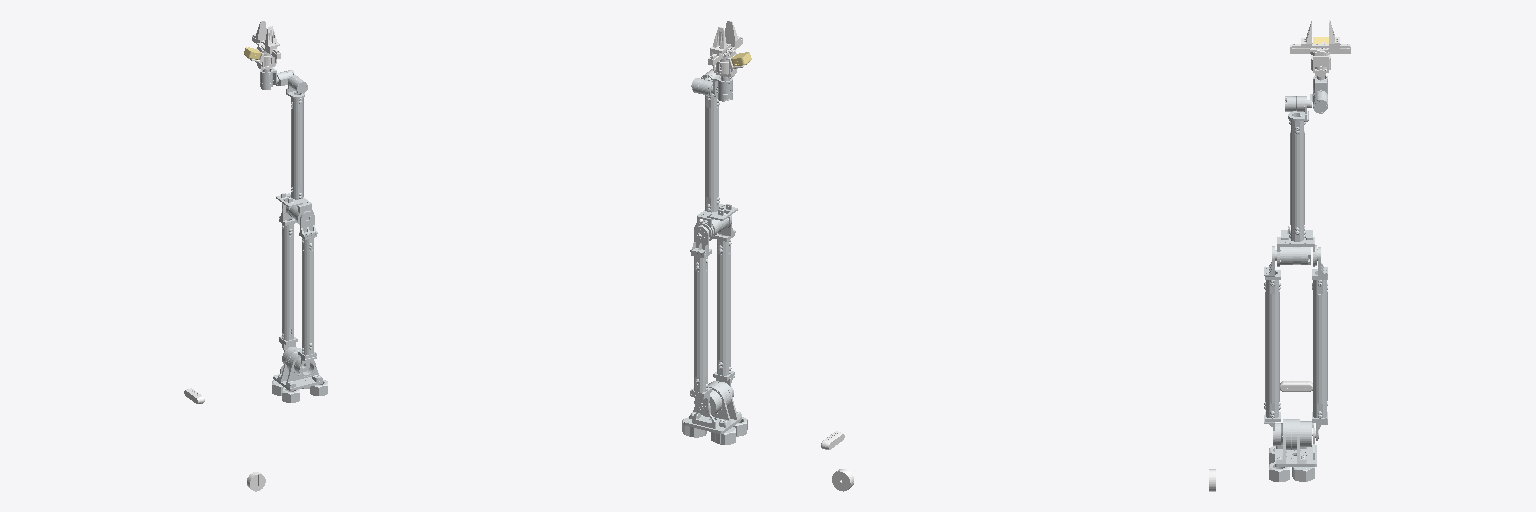
URDF robot description (四摆臂六履带):
<?xml version="1.0" encoding="utf-8"?>
<!-- This URDF was automatically created by SolidWorks to URDF Exporter! Originally created by Stephen Brawner (brawner@gmail.com) 
     Commit Version: 1.6.0-4-g7f85cfe  Build Version: 1.6.7995.38578
     For more information, please see http://wiki.ros.org/sw_urdf_exporter -->
<robot
  name="四摆臂六履带">
  <link
    name="base_link">
    <inertial>
      <origin
        xyz="-0.00525333436161124 -0.0654490125776293 -1.25924967565961"
        rpy="0 0 0" />
      <mass
        value="18.2147755600028" />
      <inertia
        ixx="0.035681135163709"
        ixy="-3.30703606727536E-06"
        ixz="1.73140581507931E-05"
        iyy="0.060568796439748"
        iyz="-6.66721495900564E-06"
        izz="0.0785360308707043" />
    </inertial>
    <visual>
      <origin
        xyz="0 0 0"
        rpy="0 0 0" />
      <geometry>
        <mesh
          filename="package://四摆臂六履带/meshes/base_link.STL" />
      </geometry>
      <material
        name="">
        <color
          rgba="0.298039215686275 0.298039215686275 0.298039215686275 1" />
      </material>
    </visual>
    <collision>
      <origin
        xyz="0 0 0"
        rpy="0 0 0" />
      <geometry>
        <mesh
          filename="package://四摆臂六履带/meshes/base_link.STL" />
      </geometry>
    </collision>
  </link>
  <link
    name="front_left_track_driver_link">
    <inertial>
      <origin
        xyz="0 0.0001766 0"
        rpy="0 0 0" />
      <mass
        value="0.048775" />
      <inertia
        ixx="1.1943E-05"
        ixy="-6.2489E-20"
        ixz="1.4137E-08"
        iyy="2.1014E-05"
        iyz="1.0289E-21"
        izz="1.2246E-05" />
    </inertial>
    <visual>
      <origin
        xyz="0 0 0"
        rpy="0 0 0" />
      <geometry>
        <mesh
          filename="package://四摆臂六履带/meshes/front_left_track_driver_link.STL" />
      </geometry>
      <material
        name="">
        <color
          rgba="1 1 1 1" />
      </material>
    </visual>
    <collision>
      <origin
        xyz="0 0 0"
        rpy="0 0 0" />
      <geometry>
        <mesh
          filename="package://四摆臂六履带/meshes/front_left_track_driver_link.STL" />
      </geometry>
    </collision>
  </link>
  <joint
    name="front_left_track_driver_joint"
    type="continuous">
    <origin
      xyz="-0.15403 -0.28434 -1.3328"
      rpy="0 0 0" />
    <parent
      link="base_link" />
    <child
      link="front_left_track_driver_link" />
    <axis
      xyz="0 1 0" />
  </joint>
  <link
    name="rear_left_track_driver_link">
    <inertial>
      <origin
        xyz="0 0.0001765998131813 -1.73472347597681E-18"
        rpy="0 0 0" />
      <mass
        value="0.0487751853603894" />
      <inertia
        ixx="1.19453151301021E-05"
        ixy="-6.37807671524902E-20"
        ixz="2.9354773388473E-08"
        iyy="2.10139464635948E-05"
        iyz="-1.06445813651756E-22"
        izz="1.22437584607124E-05" />
    </inertial>
    <visual>
      <origin
        xyz="0 0 0"
        rpy="0 0 0" />
      <geometry>
        <mesh
          filename="package://四摆臂六履带/meshes/rear_left_track_driver_link.STL" />
      </geometry>
      <material
        name="">
        <color
          rgba="1 1 1 1" />
      </material>
    </visual>
    <collision>
      <origin
        xyz="0 0 0"
        rpy="0 0 0" />
      <geometry>
        <mesh
          filename="package://四摆臂六履带/meshes/rear_left_track_driver_link.STL" />
      </geometry>
    </collision>
  </link>
  <joint
    name="rear_left_track_driver_joint"
    type="continuous">
    <origin
      xyz="0.15797 -0.28434 -1.3328"
      rpy="0 0 0" />
    <parent
      link="base_link" />
    <child
      link="rear_left_track_driver_link" />
    <axis
      xyz="0 1 0" />
  </joint>
  <link
    name="front_right_track_driver_link">
    <inertial>
      <origin
        xyz="0 -0.000176599813181272 1.73472347597681E-18"
        rpy="0 0 0" />
      <mass
        value="0.0487751853603893" />
      <inertia
        ixx="1.19431136820125E-05"
        ixy="6.25657776304725E-20"
        ixz="1.41367905477636E-08"
        iyy="2.10139464635948E-05"
        iyz="6.67222567019823E-22"
        izz="1.22459599088019E-05" />
    </inertial>
    <visual>
      <origin
        xyz="0 0 0"
        rpy="0 0 0" />
      <geometry>
        <mesh
          filename="package://四摆臂六履带/meshes/front_right_track_driver_link.STL" />
      </geometry>
      <material
        name="">
        <color
          rgba="1 1 1 1" />
      </material>
    </visual>
    <collision>
      <origin
        xyz="0 0 0"
        rpy="0 0 0" />
      <geometry>
        <mesh
          filename="package://四摆臂六履带/meshes/front_right_track_driver_link.STL" />
      </geometry>
    </collision>
  </link>
  <joint
    name="front_right_track_driver_joint"
    type="continuous">
    <origin
      xyz="-0.15403 0.15366 -1.3328"
      rpy="0 0 0" />
    <parent
      link="base_link" />
    <child
      link="front_right_track_driver_link" />
    <axis
      xyz="0 1 0" />
  </joint>
  <link
    name="rear_right_track_driver_link">
    <inertial>
      <origin
        xyz="-5.55111512312578E-17 -0.0001765998131813 0"
        rpy="0 0 0" />
      <mass
        value="0.0487751853603893" />
      <inertia
        ixx="1.1945315130102E-05"
        ixy="6.30303659563342E-20"
        ixz="2.93547733881655E-08"
        iyy="2.10139464635948E-05"
        iyz="1.13713686077786E-22"
        izz="1.22437584607124E-05" />
    </inertial>
    <visual>
      <origin
        xyz="0 0 0"
        rpy="0 0 0" />
      <geometry>
        <mesh
          filename="package://四摆臂六履带/meshes/rear_right_track_driver_link.STL" />
      </geometry>
      <material
        name="">
        <color
          rgba="1 1 1 1" />
      </material>
    </visual>
    <collision>
      <origin
        xyz="0 0 0"
        rpy="0 0 0" />
      <geometry>
        <mesh
          filename="package://四摆臂六履带/meshes/rear_right_track_driver_link.STL" />
      </geometry>
    </collision>
  </link>
  <joint
    name="rear_right_track_driver_joint"
    type="continuous">
    <origin
      xyz="0.15797 0.15366 -1.3328"
      rpy="0 0 0" />
    <parent
      link="base_link" />
    <child
      link="rear_right_track_driver_link" />
    <axis
      xyz="0 1 0" />
  </joint>
  <link
    name="front_left_flipper_link">
    <inertial>
      <origin
        xyz="8.51004323329518E-08 0.00550753511779439 0.166867745732428"
        rpy="0 0 0" />
      <mass
        value="1.58786786548102" />
      <inertia
        ixx="0.0101203073694155"
        ixy="-2.47348246222203E-12"
        ixz="6.46656692217059E-09"
        iyy="0.0114564870751773"
        iyz="-8.66733028935139E-08"
        izz="0.00151495709722874" />
    </inertial>
    <visual>
      <origin
        xyz="0 0 0"
        rpy="0 0 0" />
      <geometry>
        <mesh
          filename="package://四摆臂六履带/meshes/front_left_flipper_link.STL" />
      </geometry>
      <material
        name="">
        <color
          rgba="0.752941176470588 0.752941176470588 0.752941176470588 1" />
      </material>
    </visual>
    <collision>
      <origin
        xyz="0 0 0"
        rpy="0 0 0" />
      <geometry>
        <mesh
          filename="package://四摆臂六履带/meshes/front_left_flipper_link.STL" />
      </geometry>
    </collision>
  </link>
  <joint
    name="front_left_flipper_joint"
    type="revolute">
    <origin
      xyz="-0.27563 -0.30634 -1.2777"
      rpy="0 0 0" />
    <parent
      link="base_link" />
    <child
      link="front_left_flipper_link" />
    <axis
      xyz="0 -1 0" />
    <limit
      lower="-2.356"
      upper="2.356"
      effort="50"
      velocity="1.57" />
  </joint>
  <link
    name="rear_left_flipper_link">
    <inertial>
      <origin
        xyz="8.51004334778693E-08 0.00550753511779267 0.166867745732428"
        rpy="0 0 0" />
      <mass
        value="1.58786786548102" />
      <inertia
        ixx="0.0101203073694154"
        ixy="-2.47348286003286E-12"
        ixz="6.46656686111177E-09"
        iyy="0.0114564870751773"
        iyz="-8.66733026505326E-08"
        izz="0.00151495709722865" />
    </inertial>
    <visual>
      <origin
        xyz="0 0 0"
        rpy="0 0 0" />
      <geometry>
        <mesh
          filename="package://四摆臂六履带/meshes/rear_left_flipper_link.STL" />
      </geometry>
      <material
        name="">
        <color
          rgba="0.752941176470588 0.752941176470588 0.752941176470588 1" />
      </material>
    </visual>
    <collision>
      <origin
        xyz="0 0 0"
        rpy="0 0 0" />
      <geometry>
        <mesh
          filename="package://四摆臂六履带/meshes/rear_left_flipper_link.STL" />
      </geometry>
    </collision>
  </link>
  <joint
    name="rear_left_flipper_joint"
    type="revolute">
    <origin
      xyz="0.27957 -0.30634 -1.2777"
      rpy="0 0 0" />
    <parent
      link="base_link" />
    <child
      link="rear_left_flipper_link" />
    <axis
      xyz="0 -1 0" />
    <limit
      lower="-2.356"
      upper="2.356"
      effort="50"
      velocity="1.57" />
  </joint>
  <link
    name="front_right_flipper_link">
    <inertial>
      <origin
        xyz="-8.5100776273106E-08 -0.00550753511778798 0.166867745732428"
        rpy="0 0 0" />
      <mass
        value="1.58786786548102" />
      <inertia
        ixx="0.0101203073694157"
        ixy="-2.47348335348264E-12"
        ixz="-6.46654918700326E-09"
        iyy="0.0114564870751773"
        iyz="8.66733026516659E-08"
        izz="0.0015149570972289" />
    </inertial>
    <visual>
      <origin
        xyz="0 0 0"
        rpy="0 0 0" />
      <geometry>
        <mesh
          filename="package://四摆臂六履带/meshes/front_right_flipper_link.STL" />
      </geometry>
      <material
        name="">
        <color
          rgba="0.752941176470588 0.752941176470588 0.752941176470588 1" />
      </material>
    </visual>
    <collision>
      <origin
        xyz="0 0 0"
        rpy="0 0 0" />
      <geometry>
        <mesh
          filename="package://四摆臂六履带/meshes/front_right_flipper_link.STL" />
      </geometry>
    </collision>
  </link>
  <joint
    name="front_right_flipper_joint"
    type="revolute">
    <origin
      xyz="-0.27563 0.17566 -1.2777"
      rpy="0 0 0" />
    <parent
      link="base_link" />
    <child
      link="front_right_flipper_link" />
    <axis
      xyz="0 1 0" />
    <limit
      lower="-2.356"
      upper="2.356"
      effort="50"
      velocity="1.57" />
  </joint>
  <link
    name="rear_right_flipper_link">
    <inertial>
      <origin
        xyz="-8.51007770918955E-08 -0.0055075351177879 0.166867745732428"
        rpy="0 0 0" />
      <mass
        value="1.58786786548102" />
      <inertia
        ixx="0.0101203073694157"
        ixy="-2.47348332008637E-12"
        ixz="-6.46654912691067E-09"
        iyy="0.0114564870751773"
        iyz="8.66733026512717E-08"
        izz="0.0015149570972289" />
    </inertial>
    <visual>
      <origin
        xyz="0 0 0"
        rpy="0 0 0" />
      <geometry>
        <mesh
          filename="package://四摆臂六履带/meshes/rear_right_flipper_link.STL" />
      </geometry>
      <material
        name="">
        <color
          rgba="0.752941176470588 0.752941176470588 0.752941176470588 1" />
      </material>
    </visual>
    <collision>
      <origin
        xyz="0 0 0"
        rpy="0 0 0" />
      <geometry>
        <mesh
          filename="package://四摆臂六履带/meshes/rear_right_flipper_link.STL" />
      </geometry>
    </collision>
  </link>
  <joint
    name="rear_right_flipper_joint"
    type="revolute">
    <origin
      xyz="0.27957 0.17566 -1.2777"
      rpy="0 0 0" />
    <parent
      link="base_link" />
    <child
      link="rear_right_flipper_link" />
    <axis
      xyz="0 1 0" />
    <limit
      lower="-2.356"
      upper="2.356"
      effort="50"
      velocity="1.57" />
  </joint>
  <link
    name="turret_link">
    <inertial>
      <origin
        xyz="-3.89091000474462E-07 -0.000840655594497267 -0.000626755979201338"
        rpy="0 0 0" />
      <mass
        value="4.058247002138" />
      <inertia
        ixx="0.00215393279764293"
        ixy="7.58591199427604E-08"
        ixz="3.93372022302845E-08"
        iyy="0.00241219360465986"
        iyz="-2.17404141773445E-07"
        izz="0.00317731381306234" />
    </inertial>
    <visual>
      <origin
        xyz="0 0 0"
        rpy="0 0 0" />
      <geometry>
        <mesh
          filename="package://四摆臂六履带/meshes/turret_link.STL" />
      </geometry>
      <material
        name="">
        <color
          rgba="0.898039215686275 0.917647058823529 0.929411764705882 1" />
      </material>
    </visual>
    <collision>
      <origin
        xyz="0 0 0"
        rpy="0 0 0" />
      <geometry>
        <mesh
          filename="package://四摆臂六履带/meshes/turret_link.STL" />
      </geometry>
    </collision>
  </link>
  <joint
    name="turret_pan_joint"
    type="revolute">
    <origin
      xyz="0.12222 -0.066344 -1.133"
      rpy="0 0 0" />
    <parent
      link="base_link" />
    <child
      link="turret_link" />
    <axis
      xyz="0 0 1" />
    <limit
      lower="-1.57"
      upper="1.57"
      effort="66"
      velocity="1.57" />
  </joint>
  <link
    name="upper_arm_link">
    <inertial>
      <origin
        xyz="0.000688436238987677 -0.00351787295254652 0.273450135960469"
        rpy="0 0 0" />
      <mass
        value="1.11922784486201" />
      <inertia
        ixx="0.00568894059773445"
        ixy="-1.36527157951095E-07"
        ixz="-4.7358892653013E-07"
        iyy="0.0057290895379401"
        iyz="-2.99304417500959E-07"
        izz="0.000293741782906926" />
    </inertial>
    <visual>
      <origin
        xyz="0 0 0"
        rpy="0 0 0" />
      <geometry>
        <mesh
          filename="package://四摆臂六履带/meshes/upper_arm_link.STL" />
      </geometry>
      <material
        name="">
        <color
          rgba="0.898039215686275 0.917647058823529 0.929411764705882 1" />
      </material>
    </visual>
    <collision>
      <origin
        xyz="0 0 0"
        rpy="0 0 0" />
      <geometry>
        <mesh
          filename="package://四摆臂六履带/meshes/upper_arm_link.STL" />
      </geometry>
    </collision>
  </link>
  <joint
    name="shoulder_pitch_joint"
    type="revolute">
    <origin
      xyz="0 0.00320000000000144 0.0614876897975586"
      rpy="0 0 0" />
    <parent
      link="turret_link" />
    <child
      link="upper_arm_link" />
    <axis
      xyz="0 -1 0" />
    <limit
      lower="-2.531"
      upper="0"
      effort="66"
      velocity="1.57" />
  </joint>
  <link
    name="forearm_link">
    <inertial>
      <origin
        xyz="-0.000478562561521845 0.00702848851035878 0.161325810486218"
        rpy="0 0 0" />
      <mass
        value="1.16129891011756" />
      <inertia
        ixx="0.00249381888344272"
        ixy="1.7378284855365E-07"
        ixz="1.50375460740306E-08"
        iyy="0.00212433704863664"
        iyz="-4.69965810105998E-06"
        izz="0.000707884980998508" />
    </inertial>
    <visual>
      <origin
        xyz="0 0 0"
        rpy="0 0 0" />
      <geometry>
        <mesh
          filename="package://四摆臂六履带/meshes/forearm_link.STL" />
      </geometry>
      <material
        name="">
        <color
          rgba="0.898039215686275 0.917647058823529 0.929411764705882 1" />
      </material>
    </visual>
    <collision>
      <origin
        xyz="0 0 0"
        rpy="0 0 0" />
      <geometry>
        <mesh
          filename="package://四摆臂六履带/meshes/forearm_link.STL" />
      </geometry>
    </collision>
  </link>
  <joint
    name="elbow_pitch_joint"
    type="revolute">
    <origin
      xyz="0 -0.00980000000004102 0.515300000000048"
      rpy="0 0 0" />
    <parent
      link="upper_arm_link" />
    <child
      link="forearm_link" />
    <axis
      xyz="0 -1 0" />
    <limit
      lower="-3.14"
      upper="3.14"
      effort="18"
      velocity="1.57" />
  </joint>
  <link
    name="wrist_pitch_link">
    <inertial>
      <origin
        xyz="-0.0111211829585573 0.0245556141058408 7.49702635527427E-08"
        rpy="0 0 0" />
      <mass
        value="0.198490718521714" />
      <inertia
        ixx="3.96854415731617E-05"
        ixy="2.2569027552763E-06"
        ixz="-4.05948875687228E-10"
        iyy="6.4887345355008E-05"
        iyz="-3.93944365084065E-07"
        izz="6.68874608279777E-05" />
    </inertial>
    <visual>
      <origin
        xyz="0 0 0"
        rpy="0 0 0" />
      <geometry>
        <mesh
          filename="package://四摆臂六履带/meshes/wrist_pitch_link.STL" />
      </geometry>
      <material
        name="">
        <color
          rgba="0.898039215686275 0.917647058823529 0.929411764705882 1" />
      </material>
    </visual>
    <collision>
      <origin
        xyz="0 0 0"
        rpy="0 0 0" />
      <geometry>
        <mesh
          filename="package://四摆臂六履带/meshes/wrist_pitch_link.STL" />
      </geometry>
    </collision>
  </link>
  <joint
    name="wrist_pitch_joint"
    type="revolute">
    <origin
      xyz="0 0.0450999999999989 0.435999999999992"
      rpy="0 0 0" />
    <parent
      link="forearm_link" />
    <child
      link="wrist_pitch_link" />
    <axis
      xyz="0 1 0" />
    <limit
      lower="-1.57"
      upper="1.57"
      effort="6"
      velocity="1.57" />
  </joint>
  <link
    name="wrist_roll_link">
    <inertial>
      <origin
        xyz="-0.0236906632209934 7.25738848045276E-08 0.0112273224435506"
        rpy="0 0 0" />
      <mass
        value="0.20602863354353" />
      <inertia
        ixx="6.90541665876817E-05"
        ixy="-3.95703419621244E-07"
        ixz="2.86210079276027E-06"
        iyy="7.03217179878435E-05"
        iyz="4.07501680293274E-10"
        izz="4.11534286606825E-05" />
    </inertial>
    <visual>
      <origin
        xyz="0 0 0"
        rpy="0 0 0" />
      <geometry>
        <mesh
          filename="package://四摆臂六履带/meshes/wrist_roll_link.STL" />
      </geometry>
      <material
        name="">
        <color
          rgba="0.898039215686275 0.917647058823529 0.929411764705882 1" />
      </material>
    </visual>
    <collision>
      <origin
        xyz="0 0 0"
        rpy="0 0 0" />
      <geometry>
        <mesh
          filename="package://四摆臂六履带/meshes/wrist_roll_link.STL" />
      </geometry>
    </collision>
  </link>
  <joint
    name="wrist_roll_joint"
    type="revolute">
    <origin
      xyz="-0.0494999999999985 0.0265000000000013 0"
      rpy="0 0 0" />
    <parent
      link="wrist_pitch_link" />
    <child
      link="wrist_roll_link" />
    <axis
      xyz="-1 0 0" />
    <limit
      lower="-2.356"
      upper="2.356"
      effort="6"
      velocity="1.57" />
  </joint>
  <link
    name="end_effector_link">
    <inertial>
      <origin
        xyz="-0.117113239307875 1.52714053096078E-05 0.995000137565897"
        rpy="0 0 0" />
      <mass
        value="0.229769688817791" />
      <inertia
        ixx="0.000151079549752761"
        ixy="6.18390681019502E-07"
        ixz="2.7250775551541E-06"
        iyy="8.23862749021679E-05"
        iyz="-7.35002424716006E-09"
        izz="0.00016717856943267" />
    </inertial>
    <visual>
      <origin
        xyz="0 0 0"
        rpy="0 0 0" />
      <geometry>
        <mesh
          filename="package://四摆臂六履带/meshes/end_effector_link.STL" />
      </geometry>
      <material
        name="">
        <color
          rgba="1 1 1 1" />
      </material>
    </visual>
    <collision>
      <origin
        xyz="0 0 0"
        rpy="0 0 0" />
      <geometry>
        <mesh
          filename="package://四摆臂六履带/meshes/end_effector_link.STL" />
      </geometry>
    </collision>
  </link>
  <joint
    name="end_effector_rotate_joint"
    type="revolute">
    <origin
      xyz="0.0881633748933189 0 -0.886762086667713"
      rpy="0 0 0" />
    <parent
      link="wrist_roll_link" />
    <child
      link="end_effector_link" />
    <axis
      xyz="0 0 1" />
    <limit
      lower="-1.57"
      upper="1.57"
      effort="6"
      velocity="1.57" />
  </joint>
  <link
    name="catch_camera">
    <inertial>
      <origin
        xyz="-0.00397693184444664 -0.000923469734682778 -0.0106782498598019"
        rpy="0 0 0" />
      <mass
        value="1.07678794206717" />
      <inertia
        ixx="0.000209400343015509"
        ixy="-1.32038119144767E-07"
        ixz="3.31764608527306E-05"
        iyy="0.000197188399368555"
        iyz="-3.95621659167299E-07"
        izz="0.000289399291245462" />
    </inertial>
    <visual>
      <origin
        xyz="0 0 0"
        rpy="0 0 0" />
      <geometry>
        <mesh
          filename="package://四摆臂六履带/meshes/catch_camera.STL" />
      </geometry>
      <material
        name="">
        <color
          rgba="1 0.941176470588235 0.67843137254902 1" />
      </material>
    </visual>
    <collision>
      <origin
        xyz="0 0 0"
        rpy="0 0 0" />
      <geometry>
        <mesh
          filename="package://四摆臂六履带/meshes/catch_camera.STL" />
      </geometry>
    </collision>
  </link>
  <joint
    name="catch_camera_joint"
    type="fixed">
    <origin
      xyz="-0.0727233943896893 0.00134448857149357 0.120210653809593"
      rpy="0 0 0" />
    <parent
      link="wrist_roll_link" />
    <child
      link="catch_camera" />
    <axis
      xyz="0 0 0" />
  </joint>
  <link
    name="lidar_link">
    <inertial>
      <origin
        xyz="1.59594559789866E-15 -3.33066907387547E-16 -4.44089209850063E-16"
        rpy="0 0 0" />
      <mass
        value="0.742920987579563" />
      <inertia
        ixx="0.000937798449134027"
        ixy="1.03077101557214E-34"
        ixz="-4.61708918612271E-19"
        iyy="0.000937798449134027"
        iyz="-2.78475796235466E-20"
        izz="0.0010632127983498" />
    </inertial>
    <visual>
      <origin
        xyz="0 0 0"
        rpy="0 0 0" />
      <geometry>
        <mesh
          filename="package://四摆臂六履带/meshes/lidar_link.STL" />
      </geometry>
      <material
        name="">
        <color
          rgba="1 1 1 1" />
      </material>
    </visual>
    <collision>
      <origin
        xyz="0 0 0"
        rpy="0 0 0" />
      <geometry>
        <mesh
          filename="package://四摆臂六履带/meshes/lidar_link.STL" />
      </geometry>
    </collision>
  </link>
  <joint
    name="lidar_mount_joint"
    type="fixed">
    <origin
      xyz="-0.15353 -0.064344 -1.0321"
      rpy="0 0 0" />
    <parent
      link="base_link" />
    <child
      link="lidar_link" />
    <axis
      xyz="0 0 0" />
  </joint>
  <link
    name="camera_link">
    <inertial>
      <origin
        xyz="0 0 0"
        rpy="0 0 0" />
      <mass
        value="0" />
      <inertia
        ixx="0"
        ixy="0"
        ixz="0"
        iyy="0"
        iyz="0"
        izz="0" />
    </inertial>
    <visual>
      <origin
        xyz="0 0 0"
        rpy="0 0 0" />
      <geometry>
        <mesh
          filename="package://四摆臂六履带/meshes/camera_link.STL" />
      </geometry>
      <material
        name="">
        <color
          rgba="1 1 1 1" />
      </material>
    </visual>
    <collision>
      <origin
        xyz="0 0 0"
        rpy="0 0 0" />
      <geometry>
        <mesh
          filename="package://四摆臂六履带/meshes/camera_link.STL" />
      </geometry>
    </collision>
  </link>
  <joint
    name="camera_mount_joint"
    type="fixed">
    <origin
      xyz="-0.252921809234531 -0.0615831025212732 -1.10402210813185"
      rpy="0 0 0" />
    <parent
      link="base_link" />
    <child
      link="camera_link" />
    <axis
      xyz="0 0 0" />
  </joint>
</robot>

--- What the picture shows (computed from the rendered views, not written in the file) ---
3 views of the same robot in one strip: view 1: azimuth 30°, elevation 25°; view 2: azimuth 150°, elevation 25°; view 3: azimuth 270°, elevation 25° (orthographic).
Model 四摆臂六履带 with 18 links and 17 joints (10 revolute, 4 continuous, 3 fixed), rooted at base_link, posed all joints at 0.
Links seen in each view (by area): view 1: upper_arm_link, forearm_link, turret_link, end_effector_link; view 2: upper_arm_link, turret_link, forearm_link, end_effector_link; view 3: upper_arm_link, forearm_link, turret_link, end_effector_link.
Link boxes in pixels (box(x1,y1,x2,y2)): upper_arm_link: box(279, 203, 317, 376); forearm_link: box(276, 75, 313, 224); turret_link: box(272, 347, 327, 402); end_effector_link: box(247, 21, 280, 69); upper_arm_link: box(690, 215, 735, 413); turret_link: box(682, 381, 747, 444); forearm_link: box(694, 69, 737, 240); end_effector_link: box(708, 21, 747, 77); upper_arm_link: box(1264, 245, 1327, 445); forearm_link: box(1277, 96, 1314, 266); turret_link: box(1269, 419, 1318, 481); end_effector_link: box(1290, 20, 1350, 76).
Size in the robot's own frame: 0.4655 by 0.373 by 1.44 metres.
Meshes: 18 distinct files referenced, 9 mesh visuals loaded (9 binary STL); not drawn: 9 (reference not matched to a file when rendering).
